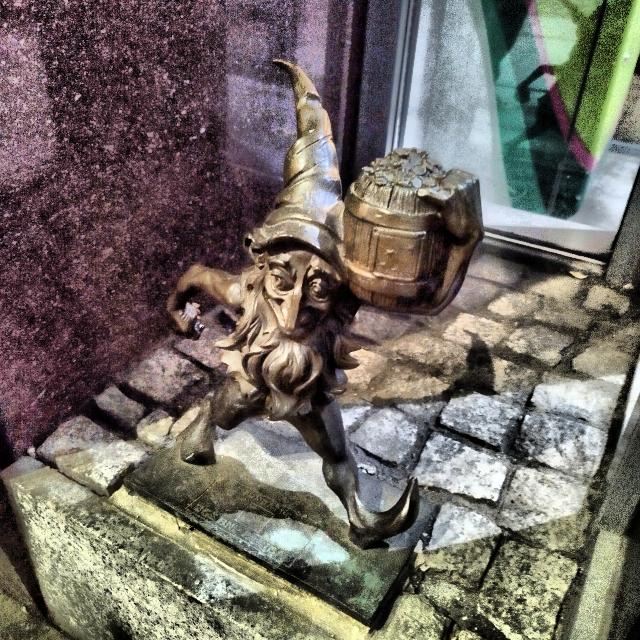Leprykonus: (149, 36, 506, 576)
